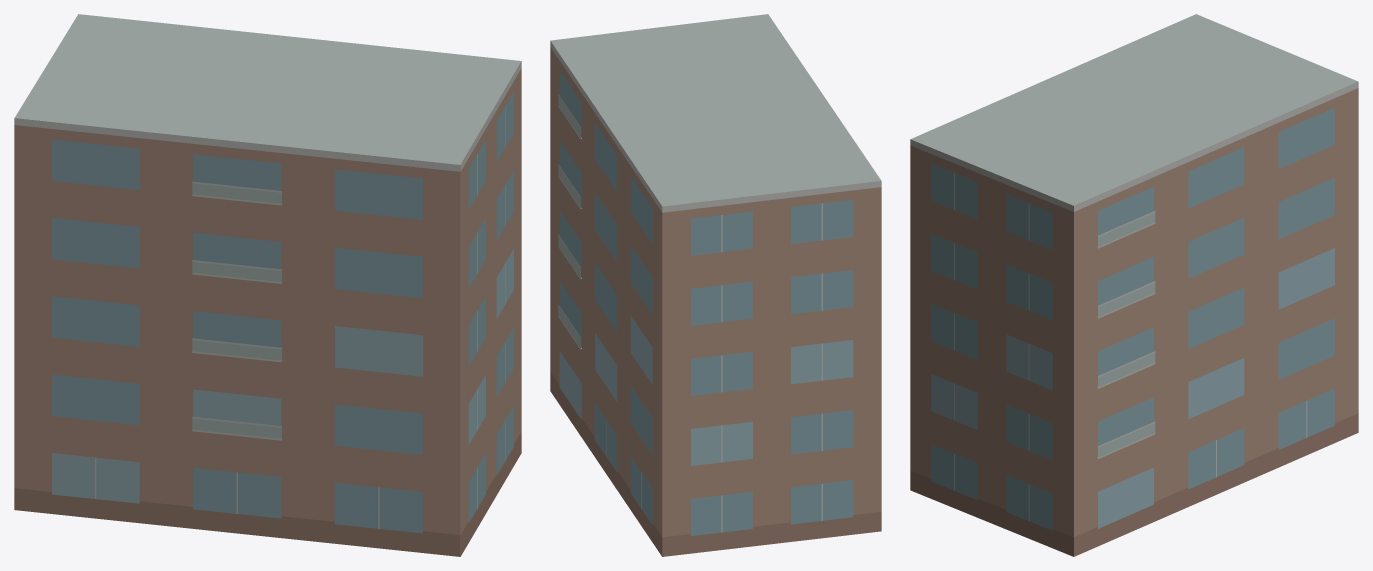
File: survey-upis-33002472.glb
3 views of the same model, side by side, from view 1: azimuth 30°, elevation 25°; view 2: azimuth 150°, elevation 25°; view 3: azimuth 270°, elevation 25° (orthographic). The views are drawn at different scales.
Visible parts, largest first — view 1: survey-upis-33002472.tmp; view 2: survey-upis-33002472.tmp; view 3: survey-upis-33002472.tmp.
Boxes of the visible parts, left/top/right/bottom form: survey-upis-33002472.tmp: left=14, top=14, right=521, bottom=556; survey-upis-33002472.tmp: left=550, top=14, right=881, bottom=556; survey-upis-33002472.tmp: left=910, top=14, right=1358, bottom=556.
Size of the model in its own units: 16.3 by 13.9 by 16.1.
